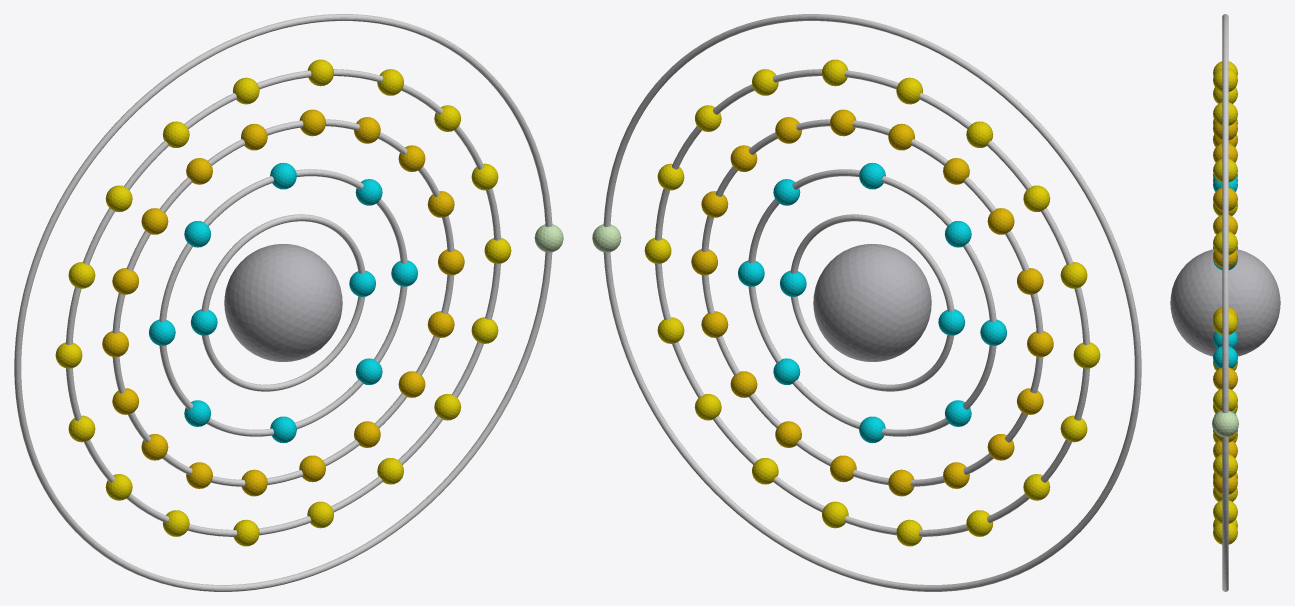
3 renders of one model, left to right at view 1: azimuth 30°, elevation 25°; view 2: azimuth 150°, elevation 25°; view 3: azimuth 270°, elevation 25°, orthographic. The views are drawn at different scales.
Parts seen in each view (by area): view 1: Camada_5, Nucleo_Ag, Camada_4, Camada_3, Camada_2, Camada_1; view 2: Camada_5, Nucleo_Ag, Camada_4, Camada_3, Camada_2, Camada_1; view 3: Nucleo_Ag, Camada_5, e5_1, e4_17, e3_4, e4_2, e4_5, e4_18, e4_3, e4_4, e4_6, e4_1 (+12 smaller).
Boxes of the visible parts, x1=… form: Camada_5: x1=14, y1=14, x2=552, y2=591; Nucleo_Ag: x1=224, y1=244, x2=342, y2=361; Camada_4: x1=66, y1=69, x2=500, y2=536; Camada_3: x1=112, y1=119, x2=454, y2=486; Camada_2: x1=159, y1=169, x2=407, y2=436; Camada_1: x1=201, y1=214, x2=365, y2=391; Camada_5: x1=603, y1=14, x2=1141, y2=591; Nucleo_Ag: x1=813, y1=244, x2=931, y2=361; Camada_4: x1=655, y1=69, x2=1089, y2=536; Camada_3: x1=701, y1=119, x2=1043, y2=486; Camada_2: x1=748, y1=169, x2=996, y2=436; Camada_1: x1=790, y1=214, x2=954, y2=391; Nucleo_Ag: x1=1170, y1=249, x2=1280, y2=356; Camada_5: x1=1222, y1=14, x2=1228, y2=591; e5_1: x1=1212, y1=411, x2=1238, y2=437; e4_17: x1=1213, y1=500, x2=1237, y2=523; e3_4: x1=1213, y1=187, x2=1237, y2=211; e4_2: x1=1213, y1=311, x2=1237, y2=334; e4_5: x1=1213, y1=102, x2=1237, y2=125; e4_18: x1=1213, y1=454, x2=1237, y2=477; e4_3: x1=1213, y1=231, x2=1237, y2=254; e4_4: x1=1213, y1=159, x2=1237, y2=182; e4_6: x1=1213, y1=68, x2=1237, y2=91; e4_1: x1=1213, y1=388, x2=1237, y2=411.
Bounding box in the file's own units: 2.35 × 2.31 × 0.44.
